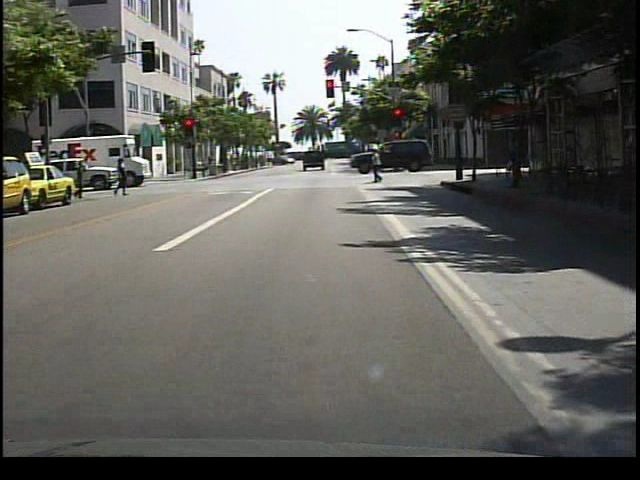person: (504, 137, 530, 188), (71, 155, 93, 201), (112, 157, 131, 199), (368, 147, 389, 182)
